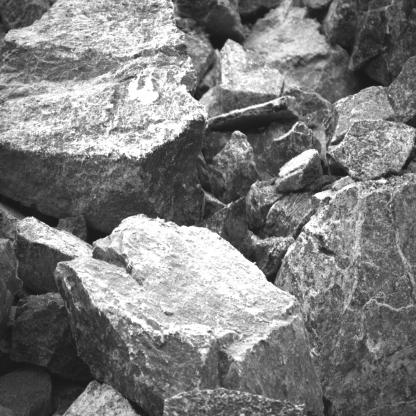stone: (54, 215, 324, 416), (0, 0, 208, 234), (9, 292, 91, 382), (199, 38, 285, 118), (15, 216, 91, 294), (326, 119, 416, 182), (210, 130, 261, 204), (261, 191, 314, 239), (275, 148, 323, 193), (251, 234, 296, 276)
